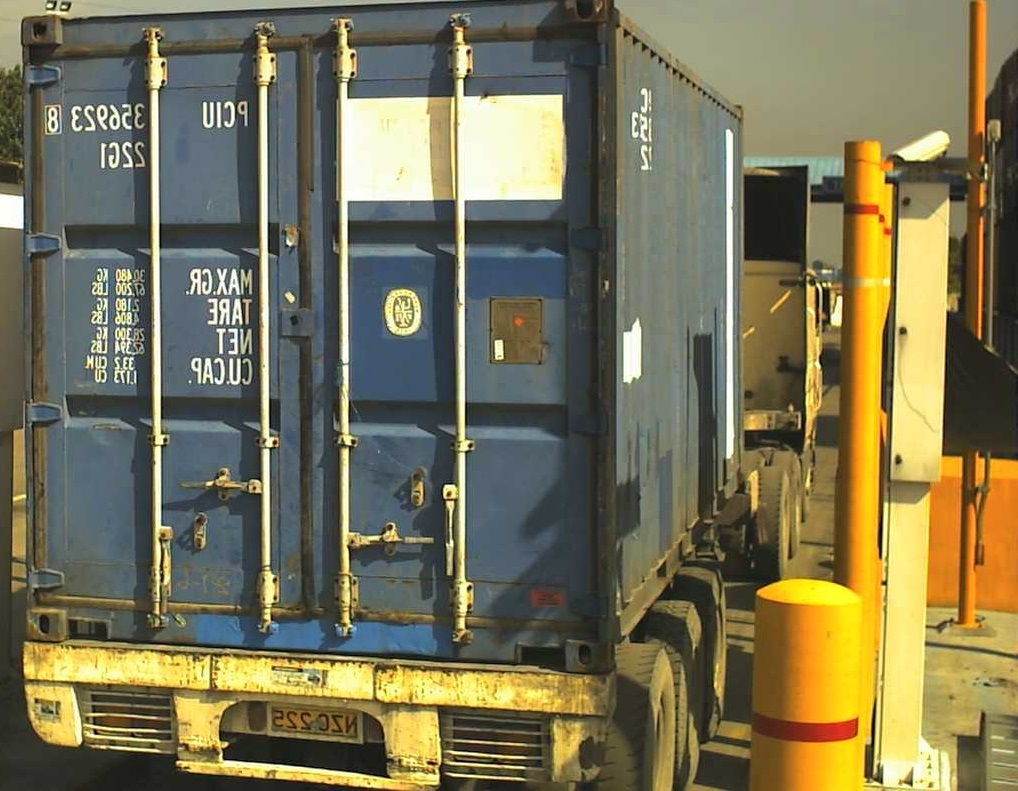container_door: (28, 1, 609, 675)
